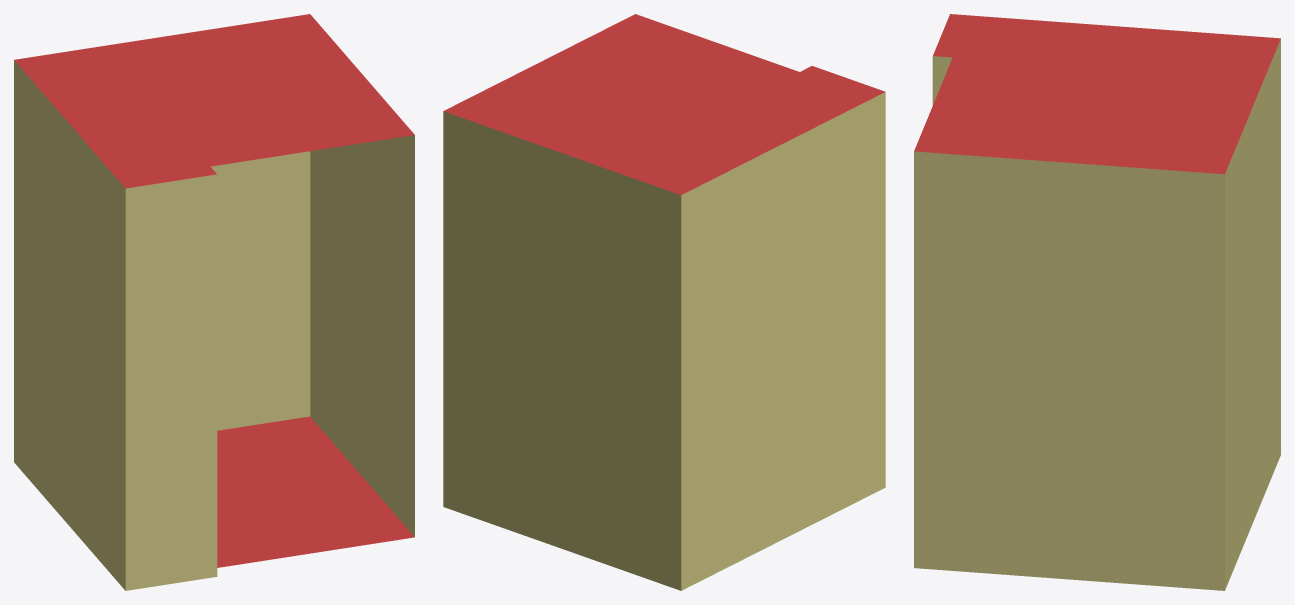
3 renders of one model, left to right at view 1: azimuth 30°, elevation 25°; view 2: azimuth 150°, elevation 25°; view 3: azimuth 270°, elevation 25°, orthographic. The views are drawn at different scales.
Size of the model in its own units: 7 by 6.77 by 8.48.
